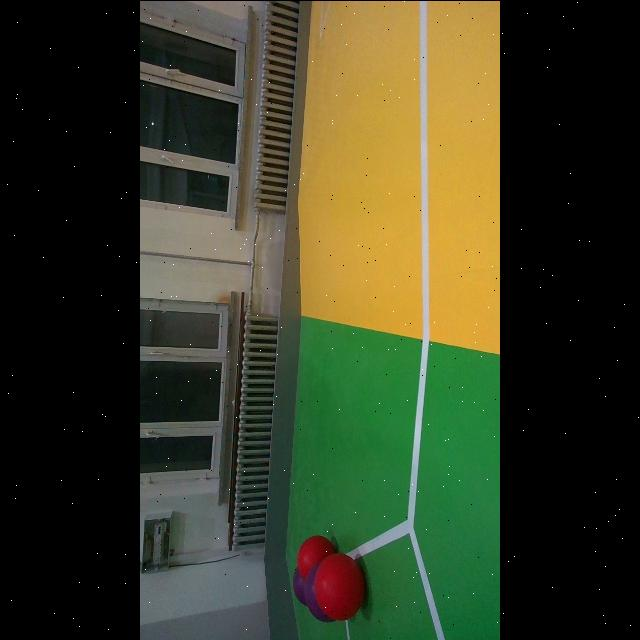R: (314, 552, 364, 620), (290, 530, 338, 582)
